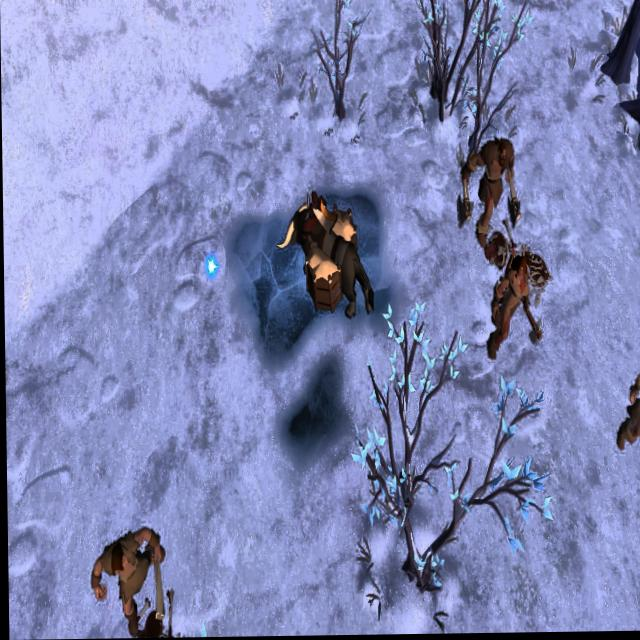enemy_factionKeeper: (88, 524, 167, 639), (454, 134, 523, 252), (485, 255, 539, 373), (615, 365, 640, 453)
